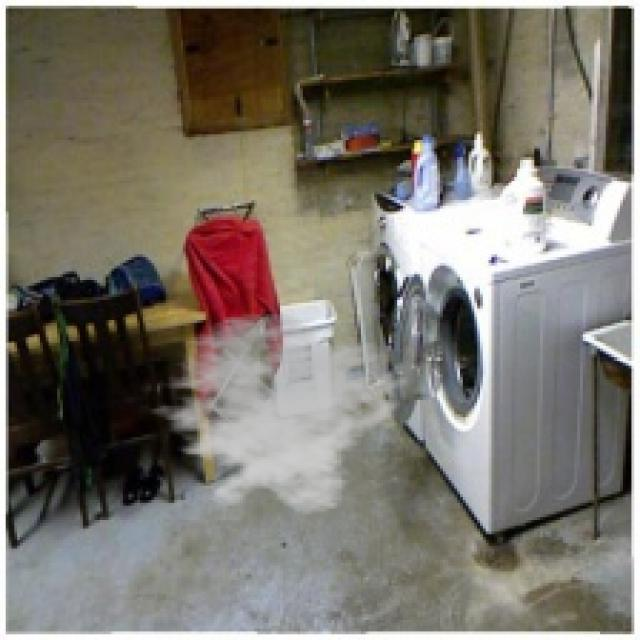Smoke: (134, 312, 412, 517)
